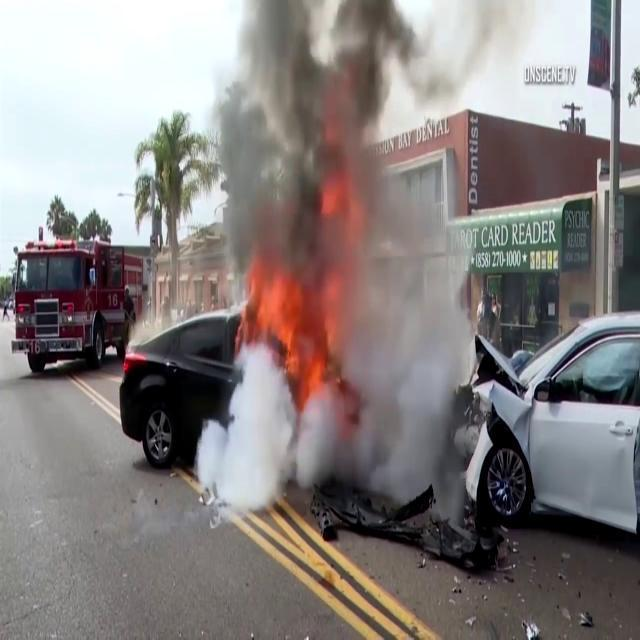Fire: (242, 247, 328, 401)
Smoke: (210, 0, 522, 498)
